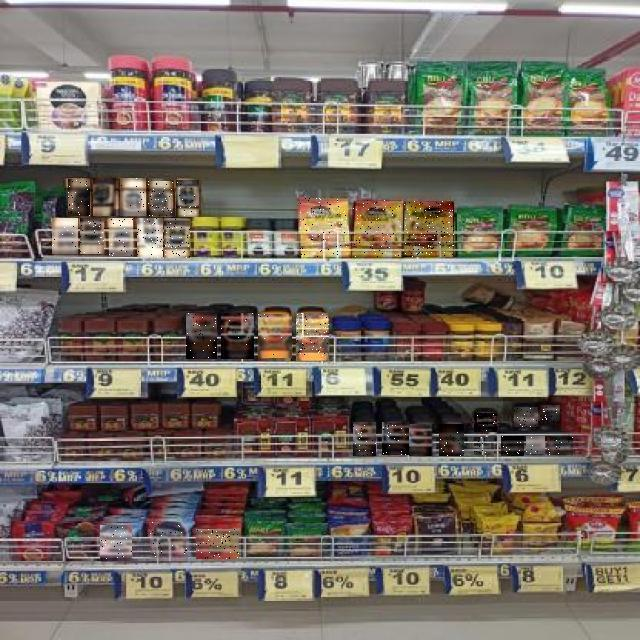Coffee: (353, 200, 402, 260), (300, 198, 349, 257), (404, 201, 454, 257), (296, 313, 329, 361), (221, 313, 254, 359), (259, 314, 293, 358), (186, 313, 217, 359), (150, 522, 188, 558), (196, 529, 239, 559), (100, 526, 132, 560), (165, 219, 191, 258), (137, 218, 163, 257), (120, 179, 146, 217), (53, 218, 79, 254), (94, 178, 118, 216), (109, 219, 133, 257), (147, 181, 173, 216), (382, 422, 409, 455), (81, 218, 105, 254), (176, 180, 199, 217), (410, 424, 436, 456), (440, 424, 466, 456), (68, 179, 90, 216), (353, 422, 376, 456), (514, 407, 538, 427), (547, 437, 573, 455), (501, 436, 524, 456), (474, 413, 497, 432), (540, 406, 560, 424), (475, 437, 495, 455), (526, 437, 545, 455)
